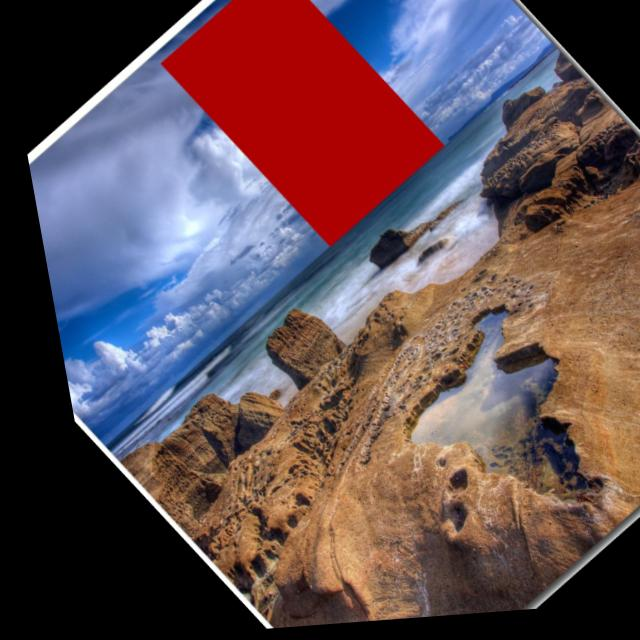RedSquare: (138, 0, 460, 269)
